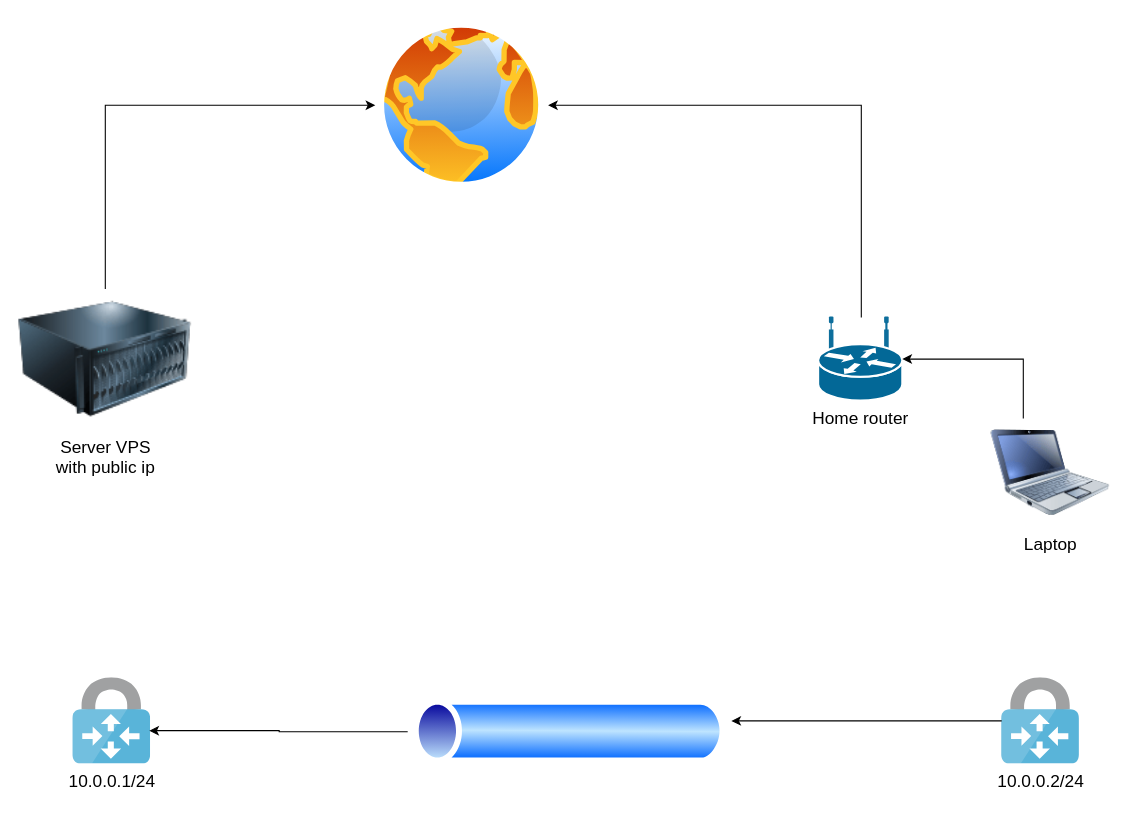
Image size: 1128x829. Some labels were removed from this diagram. The centre of each missing label's shape, as x and y in pixels:
"Channel over tcp, udp, quic and other" belongs at point (569, 731).
"Internet" belongs at point (461, 104).
